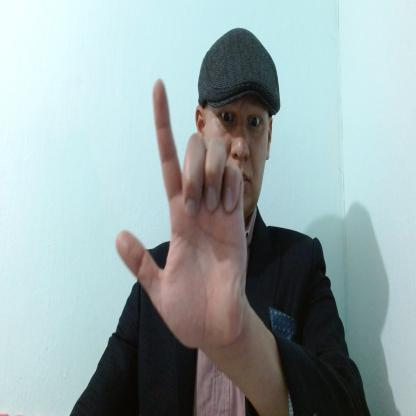L: (116, 79, 245, 352)
